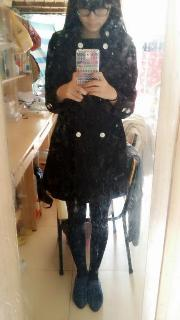long sleeve top: (43, 17, 138, 203)
trousers: (65, 163, 112, 273)
